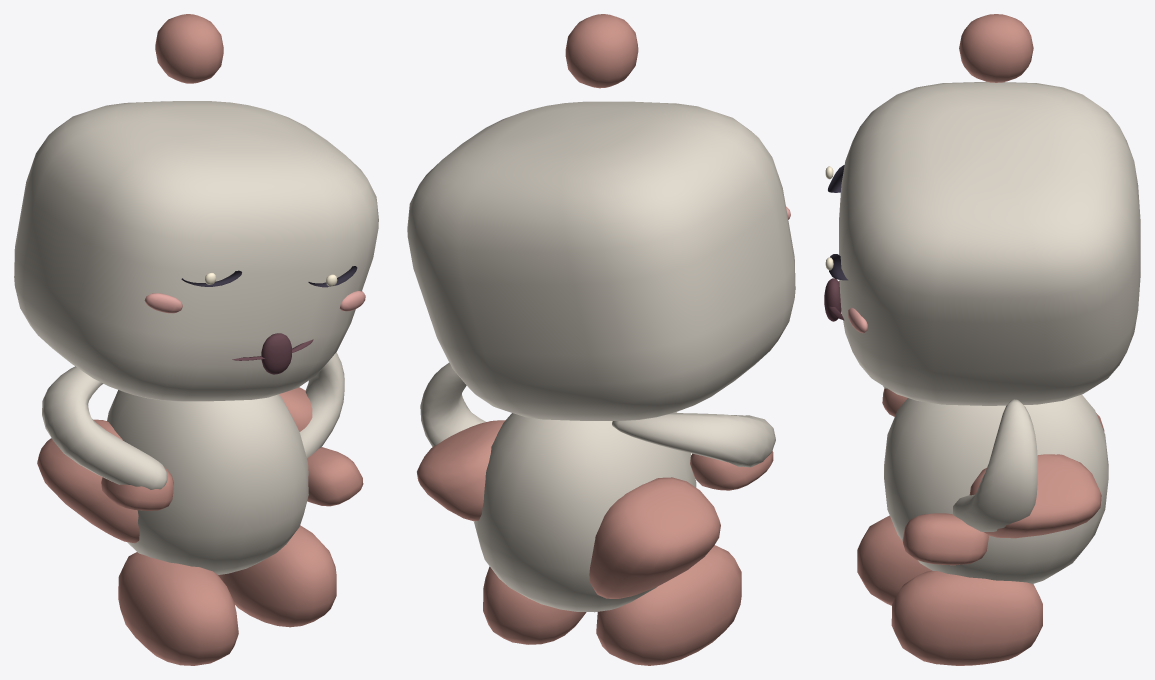
Rendered from tikket.fbx.
3 renders of one model, left to right at view 1: azimuth 30°, elevation 25°; view 2: azimuth 150°, elevation 25°; view 3: azimuth 270°, elevation 25°, orthographic. The views are drawn at different scales.
Visible parts, largest first — view 1: Tikket__Head, Tikket__Body, Tikket__FootL, Tikket__FootR, Tikket__HandL, Tikket__HipFlapL, Tikket__CharmDot, Tikket__HandR, Tikket__MittenTipR, Tikket__MittenTipL, Tikket__MouthO, Tikket__HipFlapR (+1 smaller); view 2: Tikket__Head, Tikket__Body, Tikket__HipFlapL, Tikket__FootL, Tikket__HandL, Tikket__HipFlapR, Tikket__CharmDot, Tikket__FootR, Tikket__HandR, Tikket__MittenTipL; view 3: Tikket__Head, Tikket__Body, Tikket__FootR, Tikket__HandR, Tikket__HipFlapR, Tikket__CharmDot, Tikket__MittenTipR, Tikket__FootL, Tikket__MouthO.
Boxes of the visible parts, <box> form: Tikket__Head: <box>14,101,378,401</box>; Tikket__Body: <box>107,390,308,574</box>; Tikket__FootL: <box>118,552,238,665</box>; Tikket__FootR: <box>218,525,336,627</box>; Tikket__HandL: <box>42,366,167,489</box>; Tikket__HipFlapL: <box>37,419,139,543</box>; Tikket__CharmDot: <box>155,14,223,83</box>; Tikket__HandR: <box>299,352,344,457</box>; Tikket__MittenTipR: <box>307,447,363,506</box>; Tikket__MittenTipL: <box>101,467,173,510</box>; Tikket__MouthO: <box>261,333,291,374</box>; Tikket__HipFlapR: <box>279,387,312,431</box>; Tikket__Head: <box>407,101,795,420</box>; Tikket__Body: <box>474,412,696,612</box>; Tikket__HipFlapL: <box>589,477,720,598</box>; Tikket__FootL: <box>596,545,741,665</box>; Tikket__HandL: <box>612,413,775,467</box>; Tikket__HipFlapR: <box>417,420,505,521</box>; Tikket__CharmDot: <box>565,14,638,88</box>; Tikket__FootR: <box>483,566,586,644</box>; Tikket__HandR: <box>420,363,485,446</box>; Tikket__MittenTipL: <box>690,451,773,490</box>; Tikket__Head: <box>839,81,1140,405</box>; Tikket__Body: <box>884,394,1108,583</box>; Tikket__FootR: <box>891,570,1042,665</box>; Tikket__HandR: <box>953,399,1037,532</box>; Tikket__HipFlapR: <box>969,454,1101,538</box>; Tikket__CharmDot: <box>959,14,1033,82</box>; Tikket__MittenTipR: <box>902,513,988,565</box>; Tikket__FootL: <box>857,515,931,605</box>; Tikket__MouthO: <box>824,278,841,321</box>.
Bounding box in the file's own units: 94.29 × 181 × 85.57.
